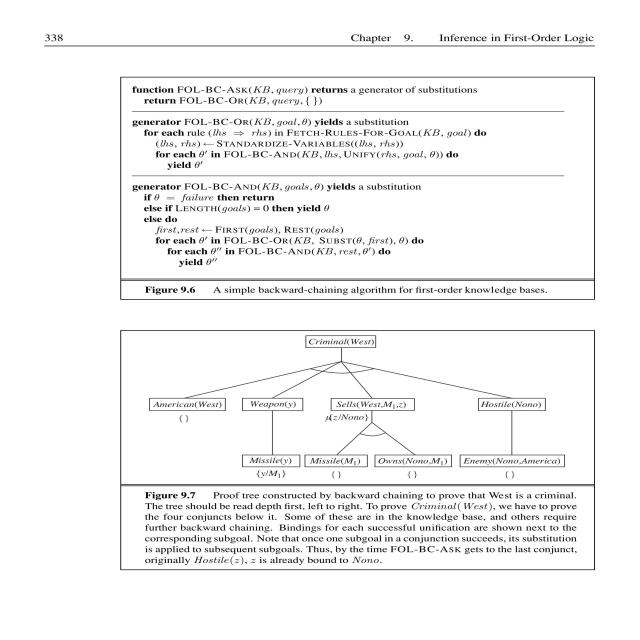diagram: (73, 56, 640, 594)
